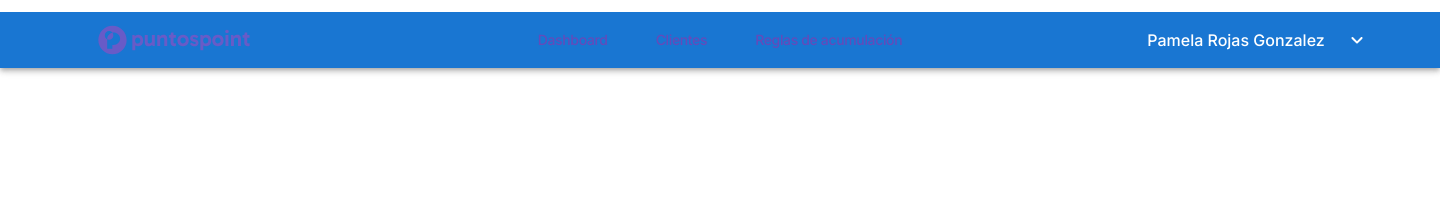
it: TopBar Component › opens and closes the menu
Check: the text "Editar perfil" is not shown
Check: the text "Cerrar Sesion" is not shown
Click the button with test id "ExpandMoreRoundedIcon": (1357, 40) [1333, 16, 1381, 64]
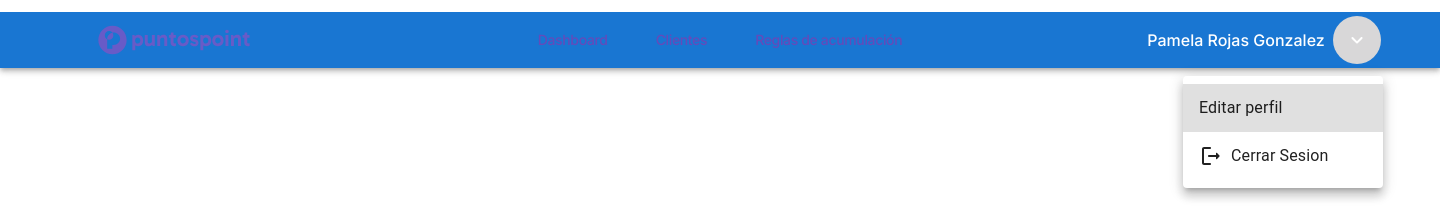
Check: the menu item "Editar perfil" is shown, box [1183, 84, 1383, 132]
Check: the text "Cerrar Sesion" is shown, box [1231, 144, 1329, 168]
Click the icon with test id "LogoutRoundedIcon": (1211, 156) [1199, 144, 1223, 168]
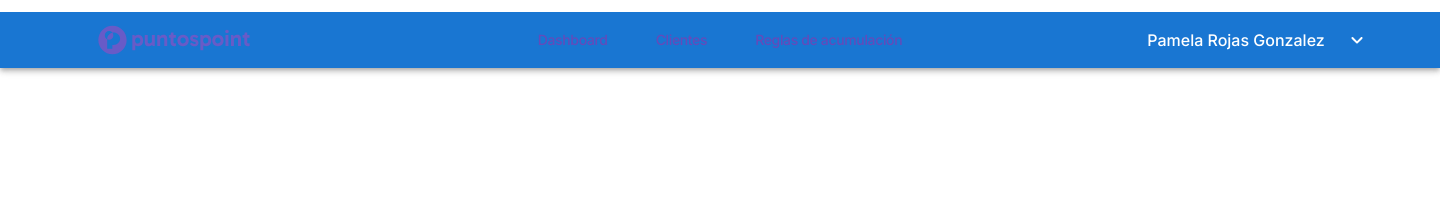
Check: the menu item "Editar perfil" is gone
Check: the menu item "Cerrar Sesion" is gone
